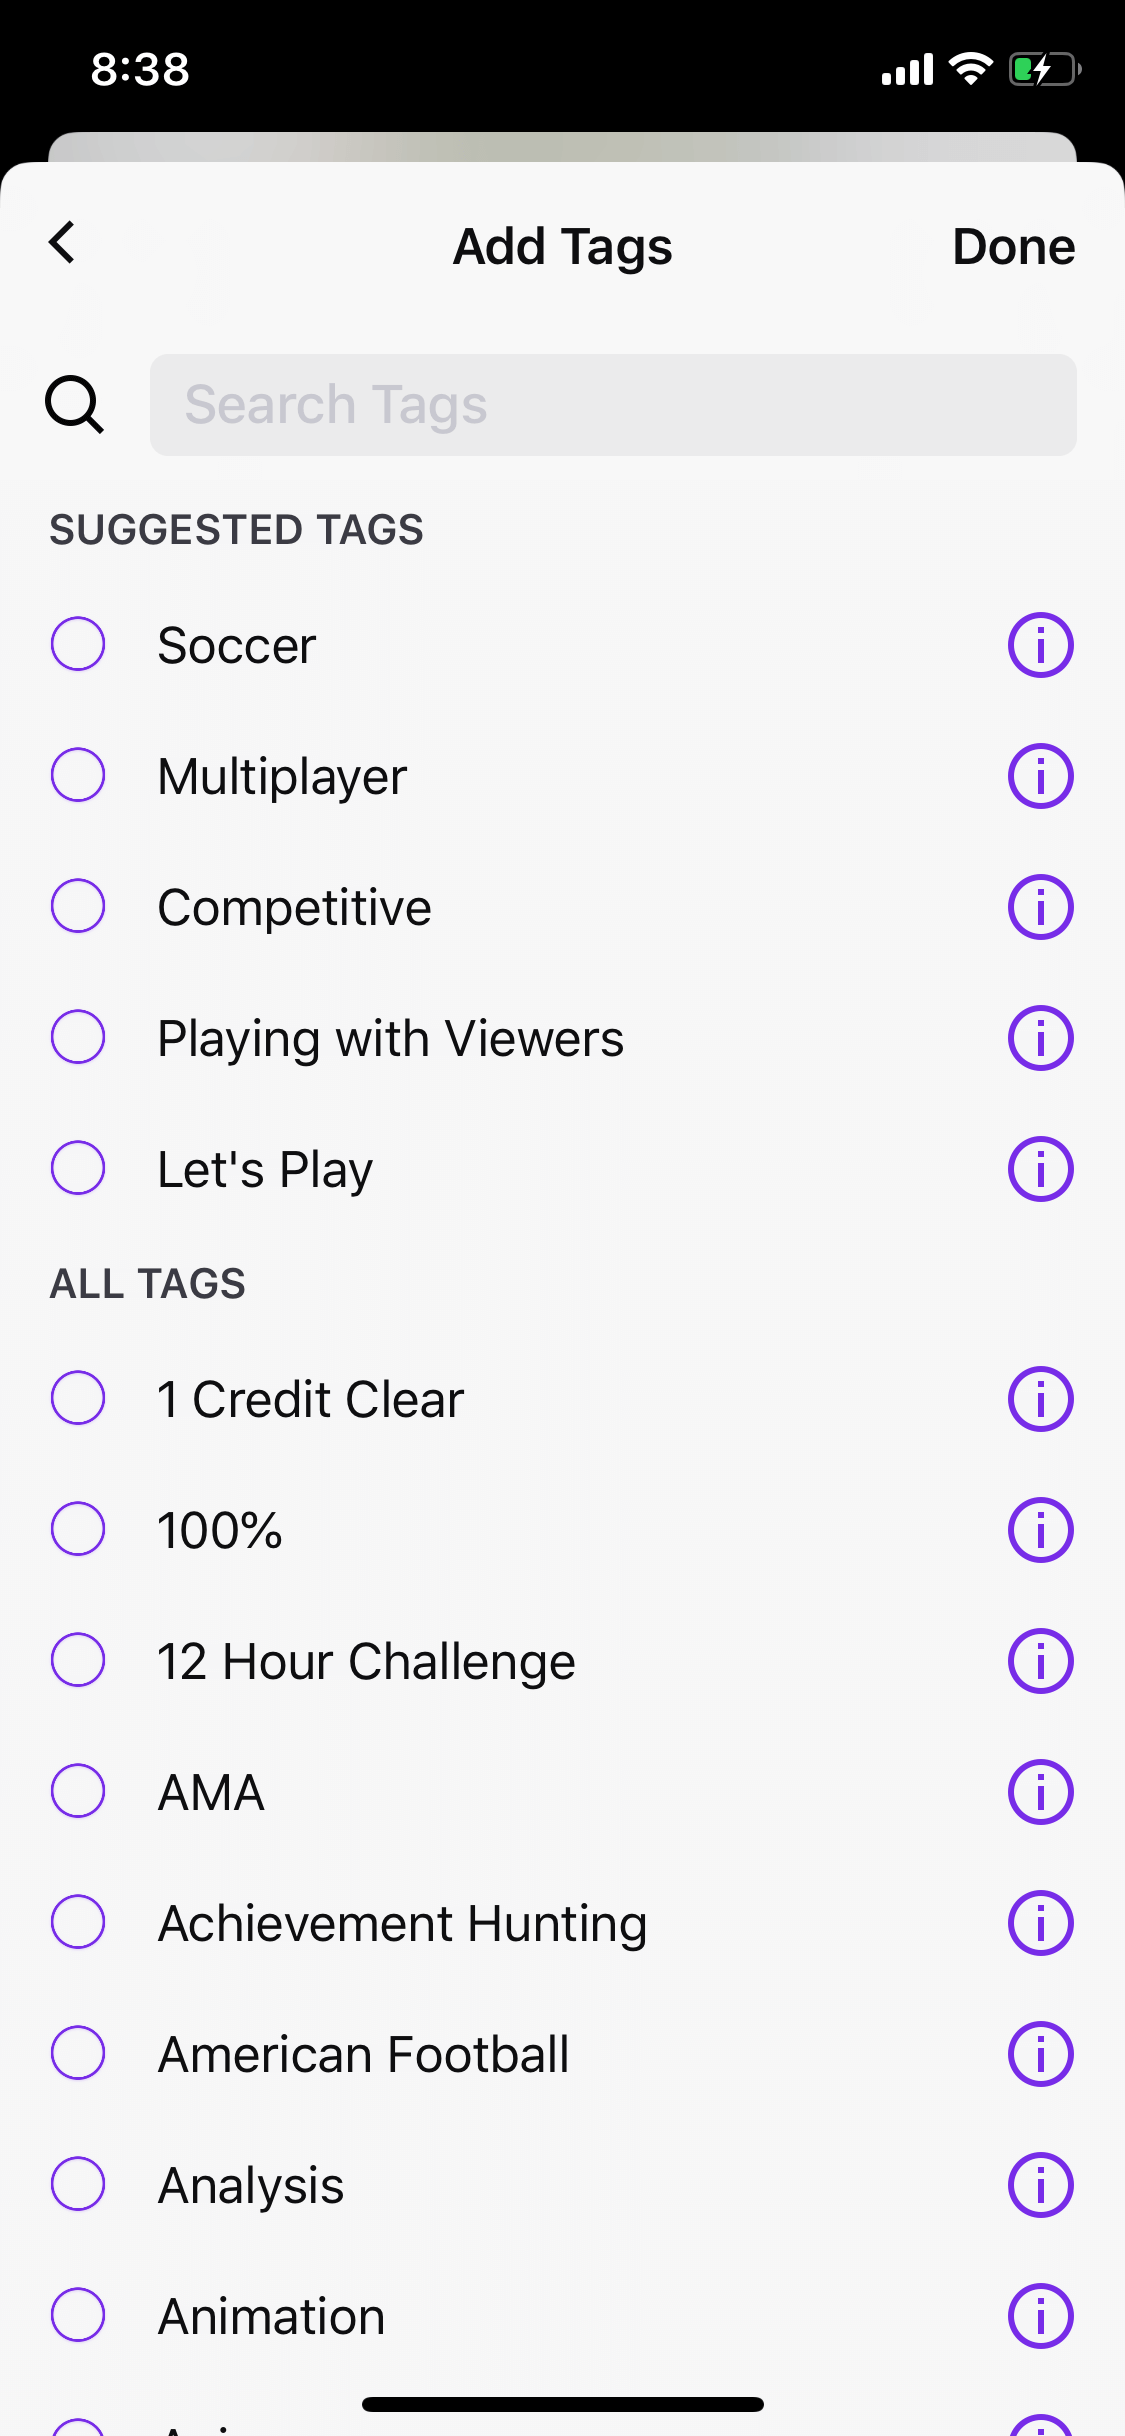Buttons: (914, 197, 1102, 295), (985, 1313, 1106, 1463), (974, 2121, 1097, 2248), (987, 1732, 1106, 1863), (984, 1112, 1114, 1224), (984, 1589, 1102, 1710), (977, 2254, 1095, 2374), (977, 1990, 1099, 2104), (988, 1870, 1105, 1982), (985, 1470, 1097, 1585), (984, 985, 1102, 1094), (987, 851, 1092, 973), (988, 583, 1088, 705), (9, 179, 117, 291), (993, 721, 1097, 833)
Radio buttons: (47, 2110, 943, 2254), (45, 831, 949, 966), (45, 1092, 946, 1226), (45, 1335, 945, 1467), (47, 966, 946, 1098), (45, 579, 942, 708), (40, 1728, 934, 1857), (40, 1582, 940, 1707), (44, 708, 946, 831), (37, 1867, 940, 1985), (37, 1992, 942, 2096), (40, 1474, 942, 1578), (50, 2274, 935, 2375)
